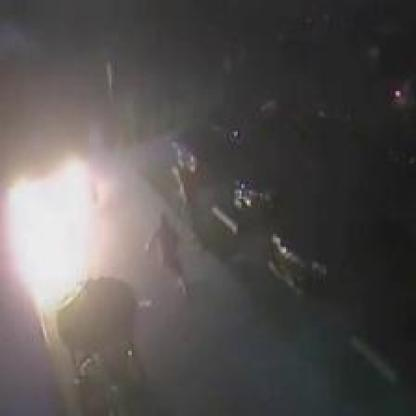fire: (2, 150, 121, 306)
